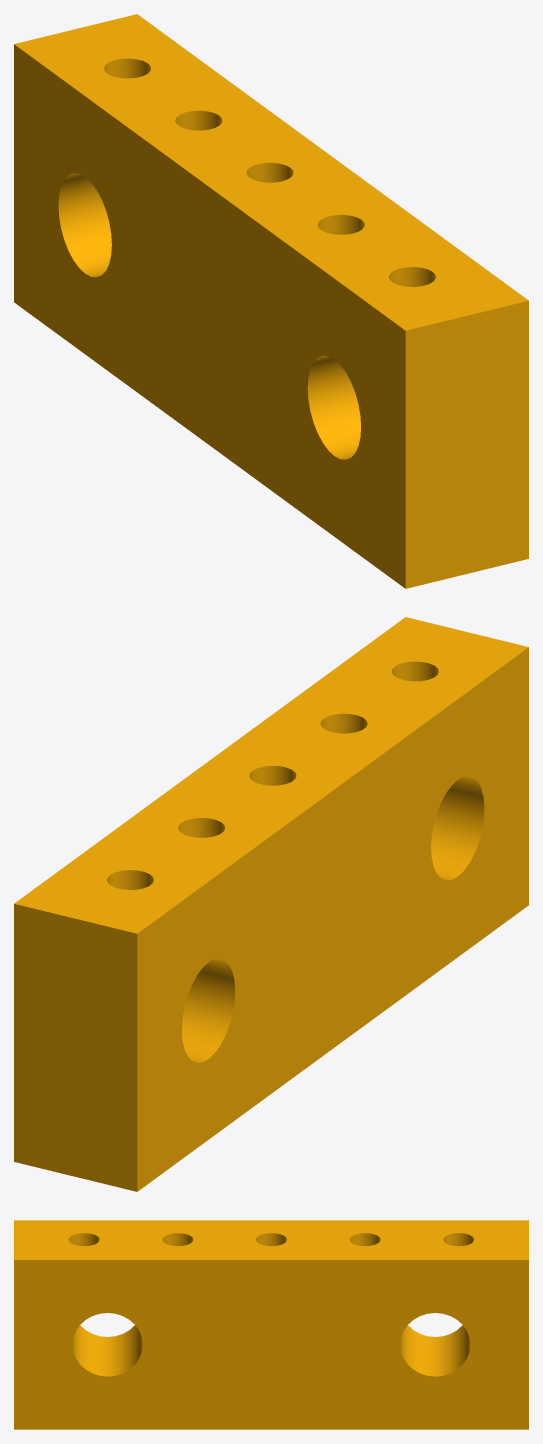
The picture shows the model from 3 angles, top to bottom: view 1: azimuth 30°, elevation 25°; view 2: azimuth 150°, elevation 25°; view 3: azimuth 270°, elevation 25°; orthographic projection. The views are drawn at different scales.
Parts seen in each view (by area): view 1: peca; view 2: peca; view 3: peca.
Part boxes in pixels (box(x1,y1,x2,y2)): peca: box(14, 14, 528, 588); peca: box(14, 617, 528, 1191); peca: box(14, 1220, 528, 1429).
Size of the model in its own units: 0.7024 by 1.41 by 3.86.
